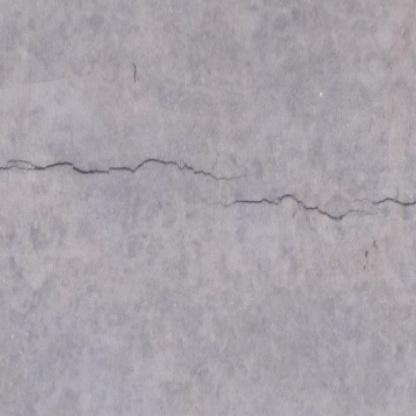Cracks: (0, 155, 240, 185), (218, 192, 416, 225)
